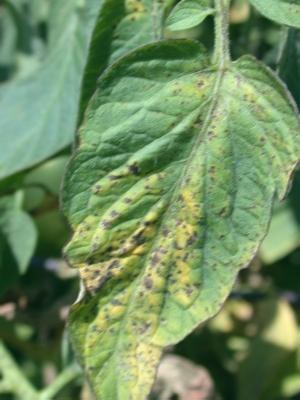Tomato leaf bacterial spot: (62, 26, 294, 399)
